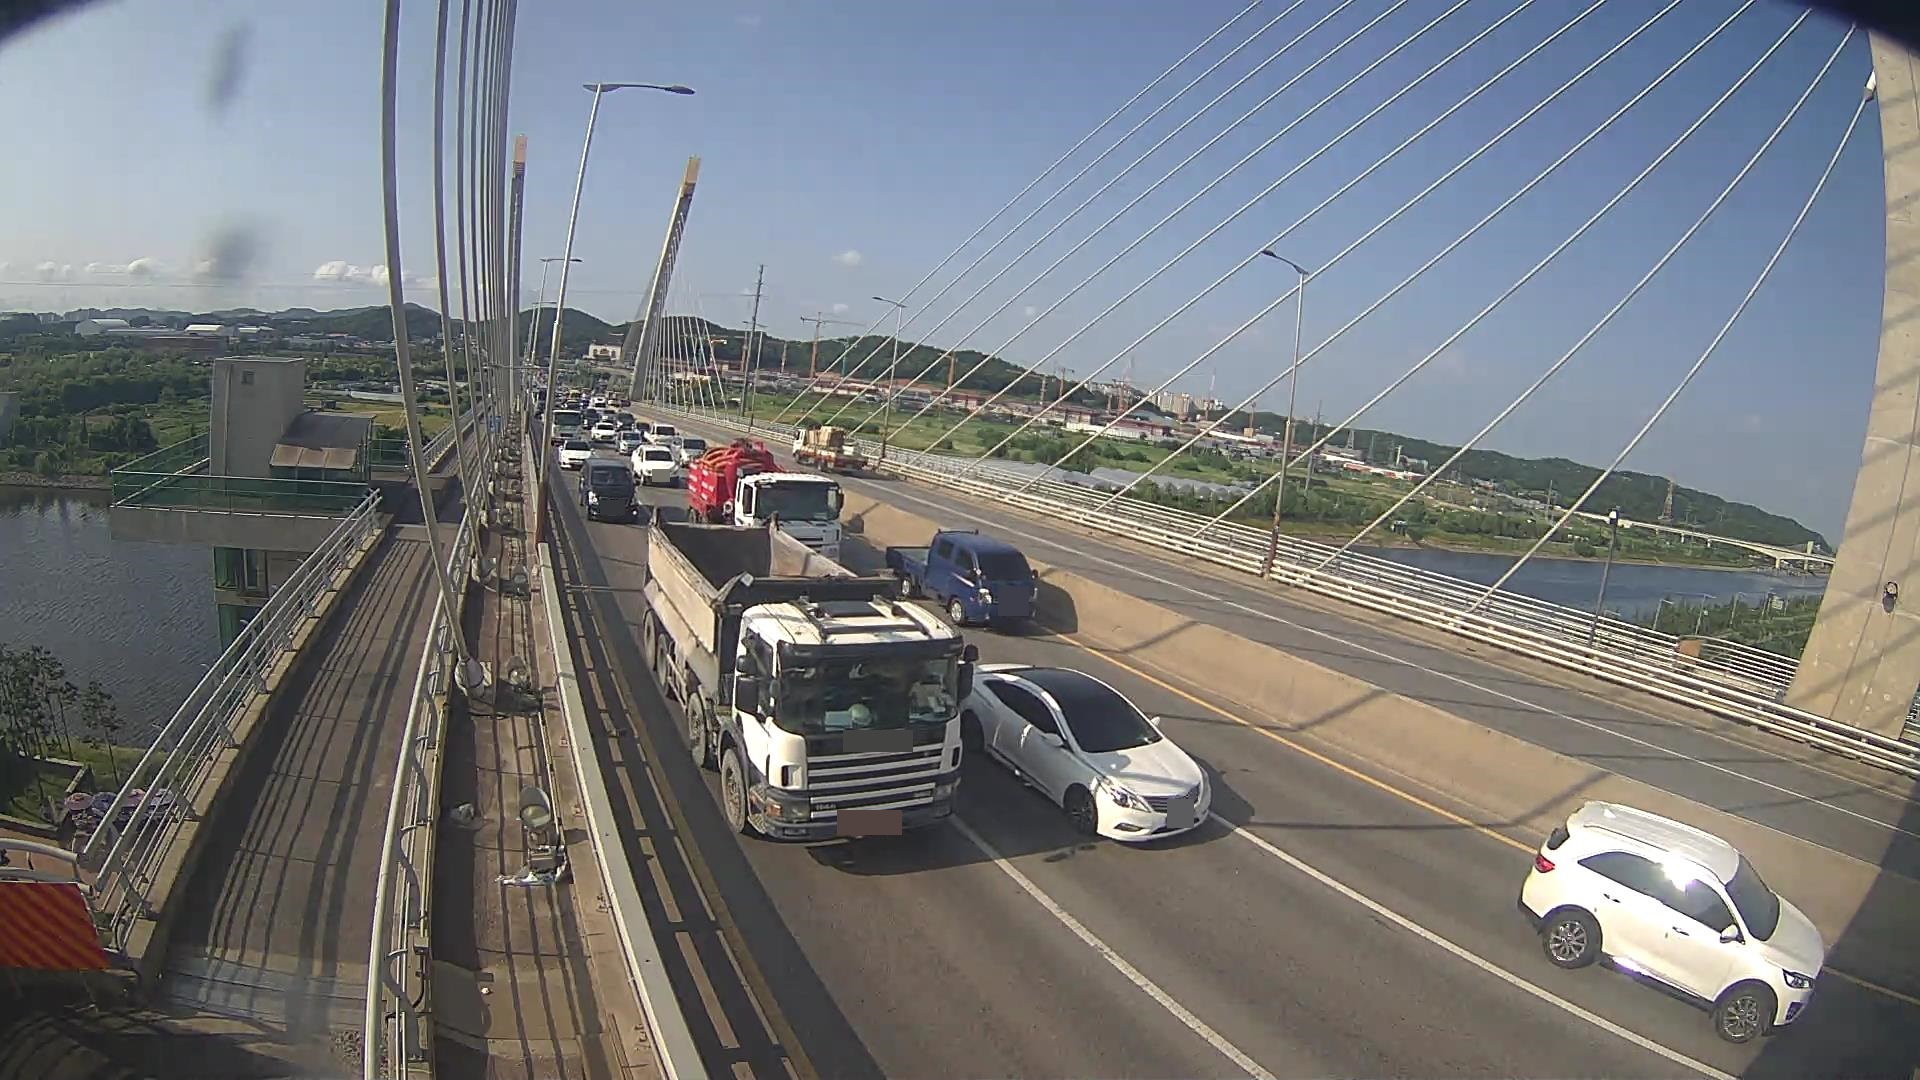정상차량: (642, 505, 978, 840)
